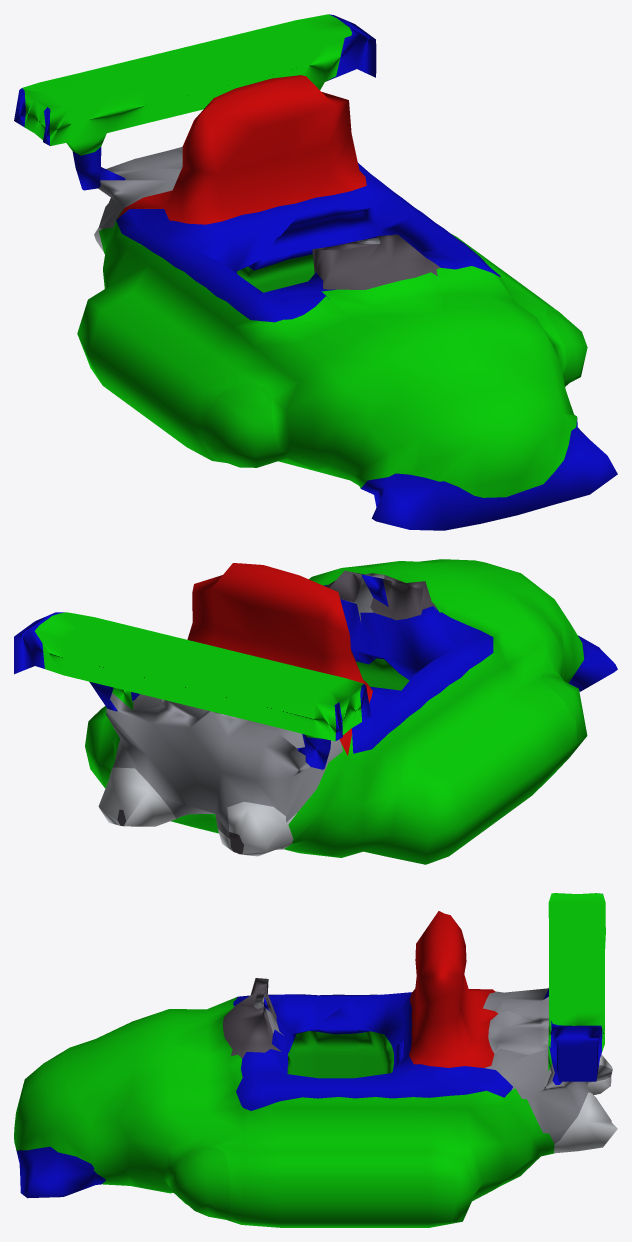
The model's file is body_racer_lo.glb.
3 renders of one model, top to bottom at view 1: azimuth 30°, elevation 25°; view 2: azimuth 150°, elevation 25°; view 3: azimuth 270°, elevation 25°, orthographic. The views are drawn at different scales.
Parts seen in each view (by area): view 1: body_racer_lo; view 2: body_racer_lo; view 3: body_racer_lo.
Part boxes in pixels (x1=…): body_racer_lo: x1=14, y1=14, x2=617, y2=530; body_racer_lo: x1=14, y1=559, x2=617, y2=864; body_racer_lo: x1=14, y1=893, x2=617, y2=1227.
Size of the model in its own units: 28.4 by 19.64 by 45.14.
